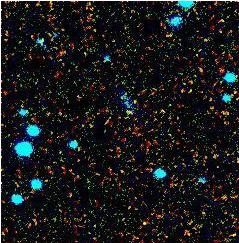star: (114, 96, 144, 126)
